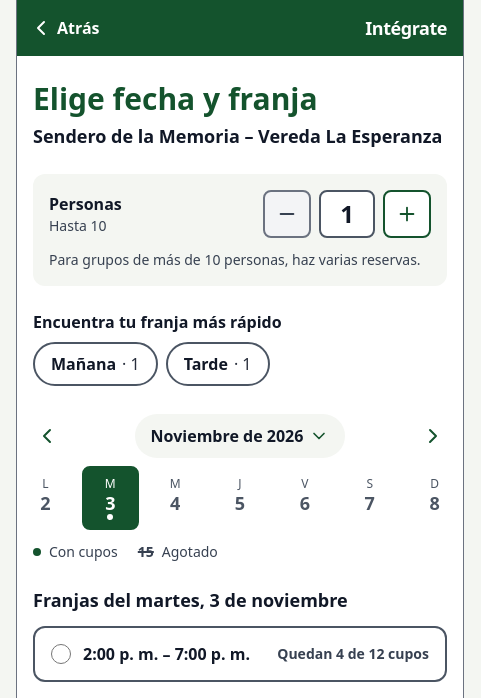
selector de franjas (T-1.10b) › al tocar el mes despliega el calendario y al elegir un día vuelve a su semana
Click the button named "ver el mes completo".
click(240, 436)  # box 135,414 -> 345,458
(page scrolled)
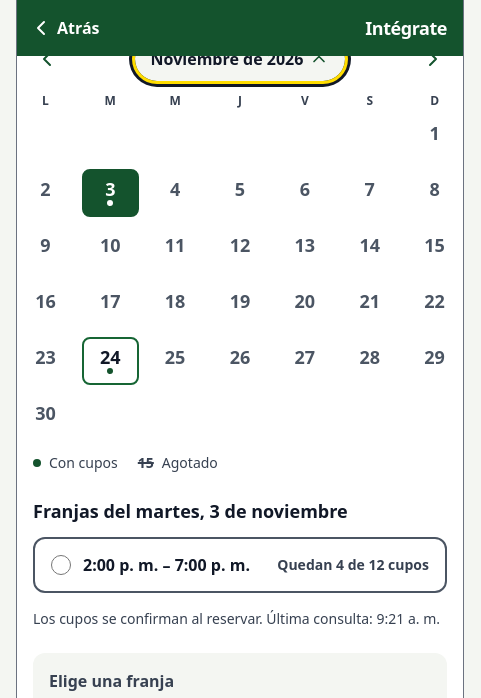
Check: the 1st list is shown, box 17,112 -> 463,440
Check: the button named "ver el mes completo" is expanded, box 135,36 -> 345,80
Click the button "24".
click(110, 360)  # box 82,336 -> 139,384
(page scrolled)
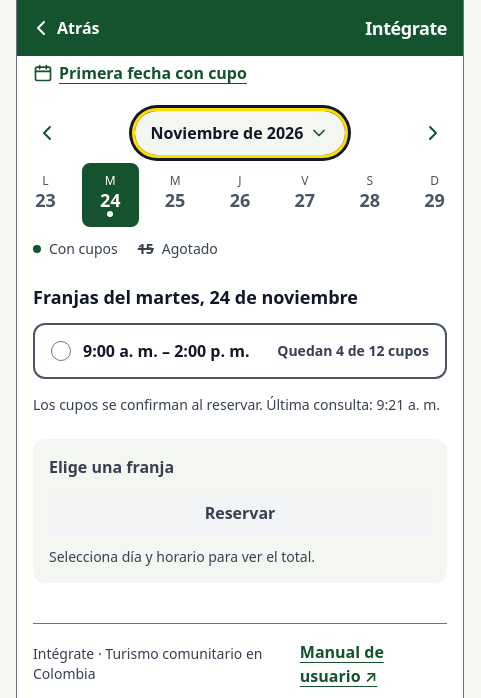
Check: the radio button is enabled, box 51,340 -> 71,360
Check: the button named "ver el mes completo" is collapsed, box 135,110 -> 345,154
Check: the list named "Días de la semana" is shown, box 17,162 -> 463,226
